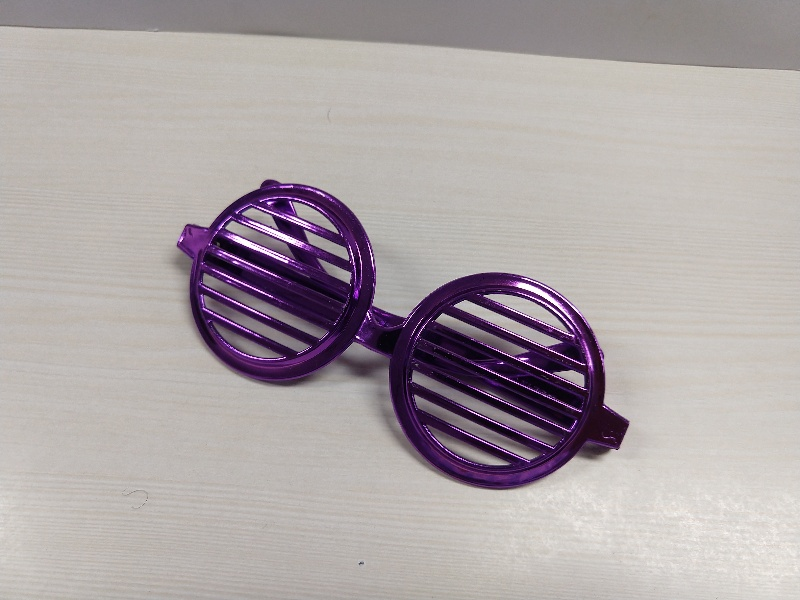shades: (167, 178, 635, 489)
